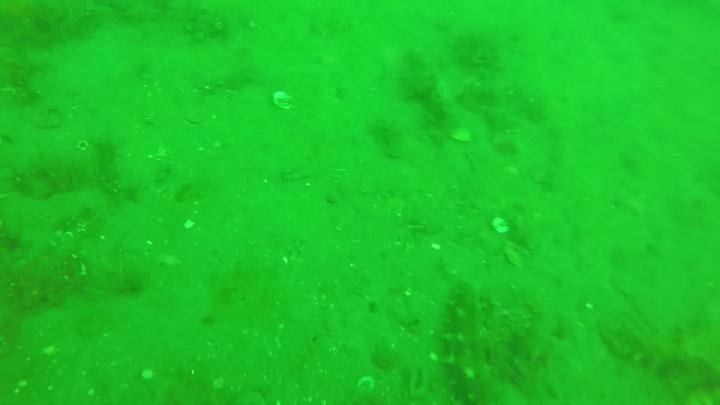holothurian: (618, 314, 720, 405), (441, 283, 490, 405)
scallop: (273, 91, 296, 113), (491, 218, 513, 238), (451, 128, 474, 146), (357, 376, 377, 396), (158, 257, 182, 268), (141, 369, 156, 381), (212, 375, 224, 389)
